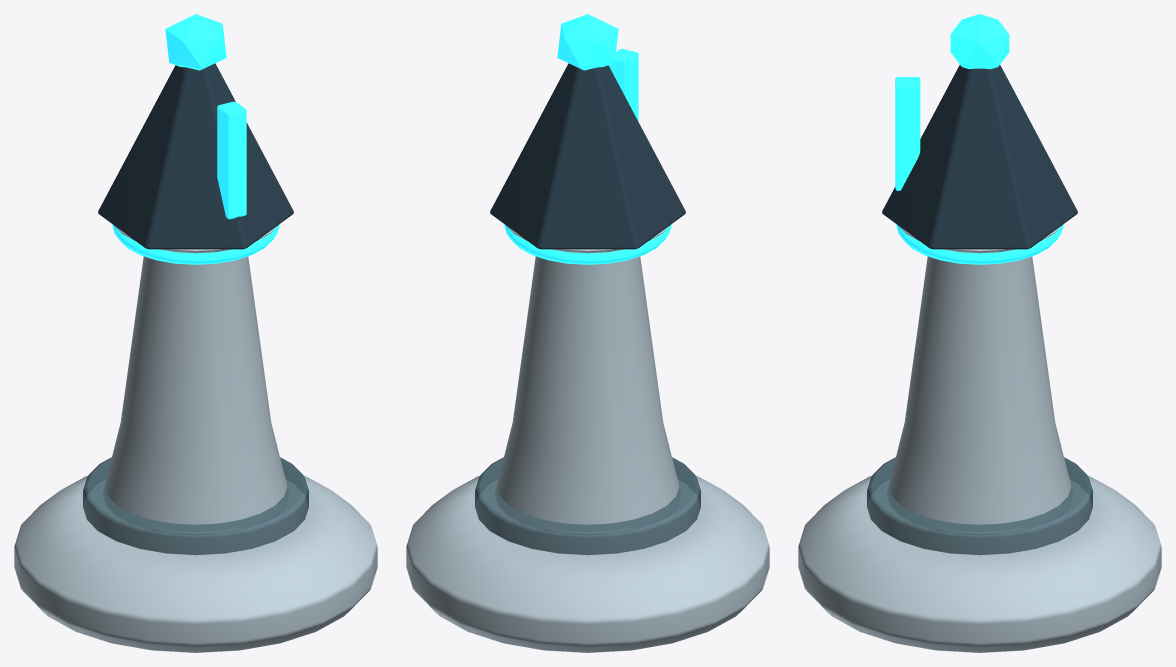
3 views of the same model, side by side, from view 1: azimuth 30°, elevation 25°; view 2: azimuth 150°, elevation 25°; view 3: azimuth 270°, elevation 25° (orthographic).
Visible parts, largest first — view 1: SciFi_b_w; view 2: SciFi_b_w; view 3: SciFi_b_w.
Part boxes in pixels (x1=…): SciFi_b_w: x1=14, y1=14, x2=377, y2=652; SciFi_b_w: x1=406, y1=14, x2=769, y2=652; SciFi_b_w: x1=798, y1=14, x2=1161, y2=652.
Bounding box in the file's own units: 0.58 × 1 × 0.58.
